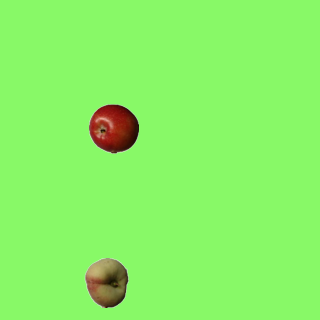Apple Braeburn: (88, 103, 138, 153)
Peach Flat: (81, 257, 131, 307)
